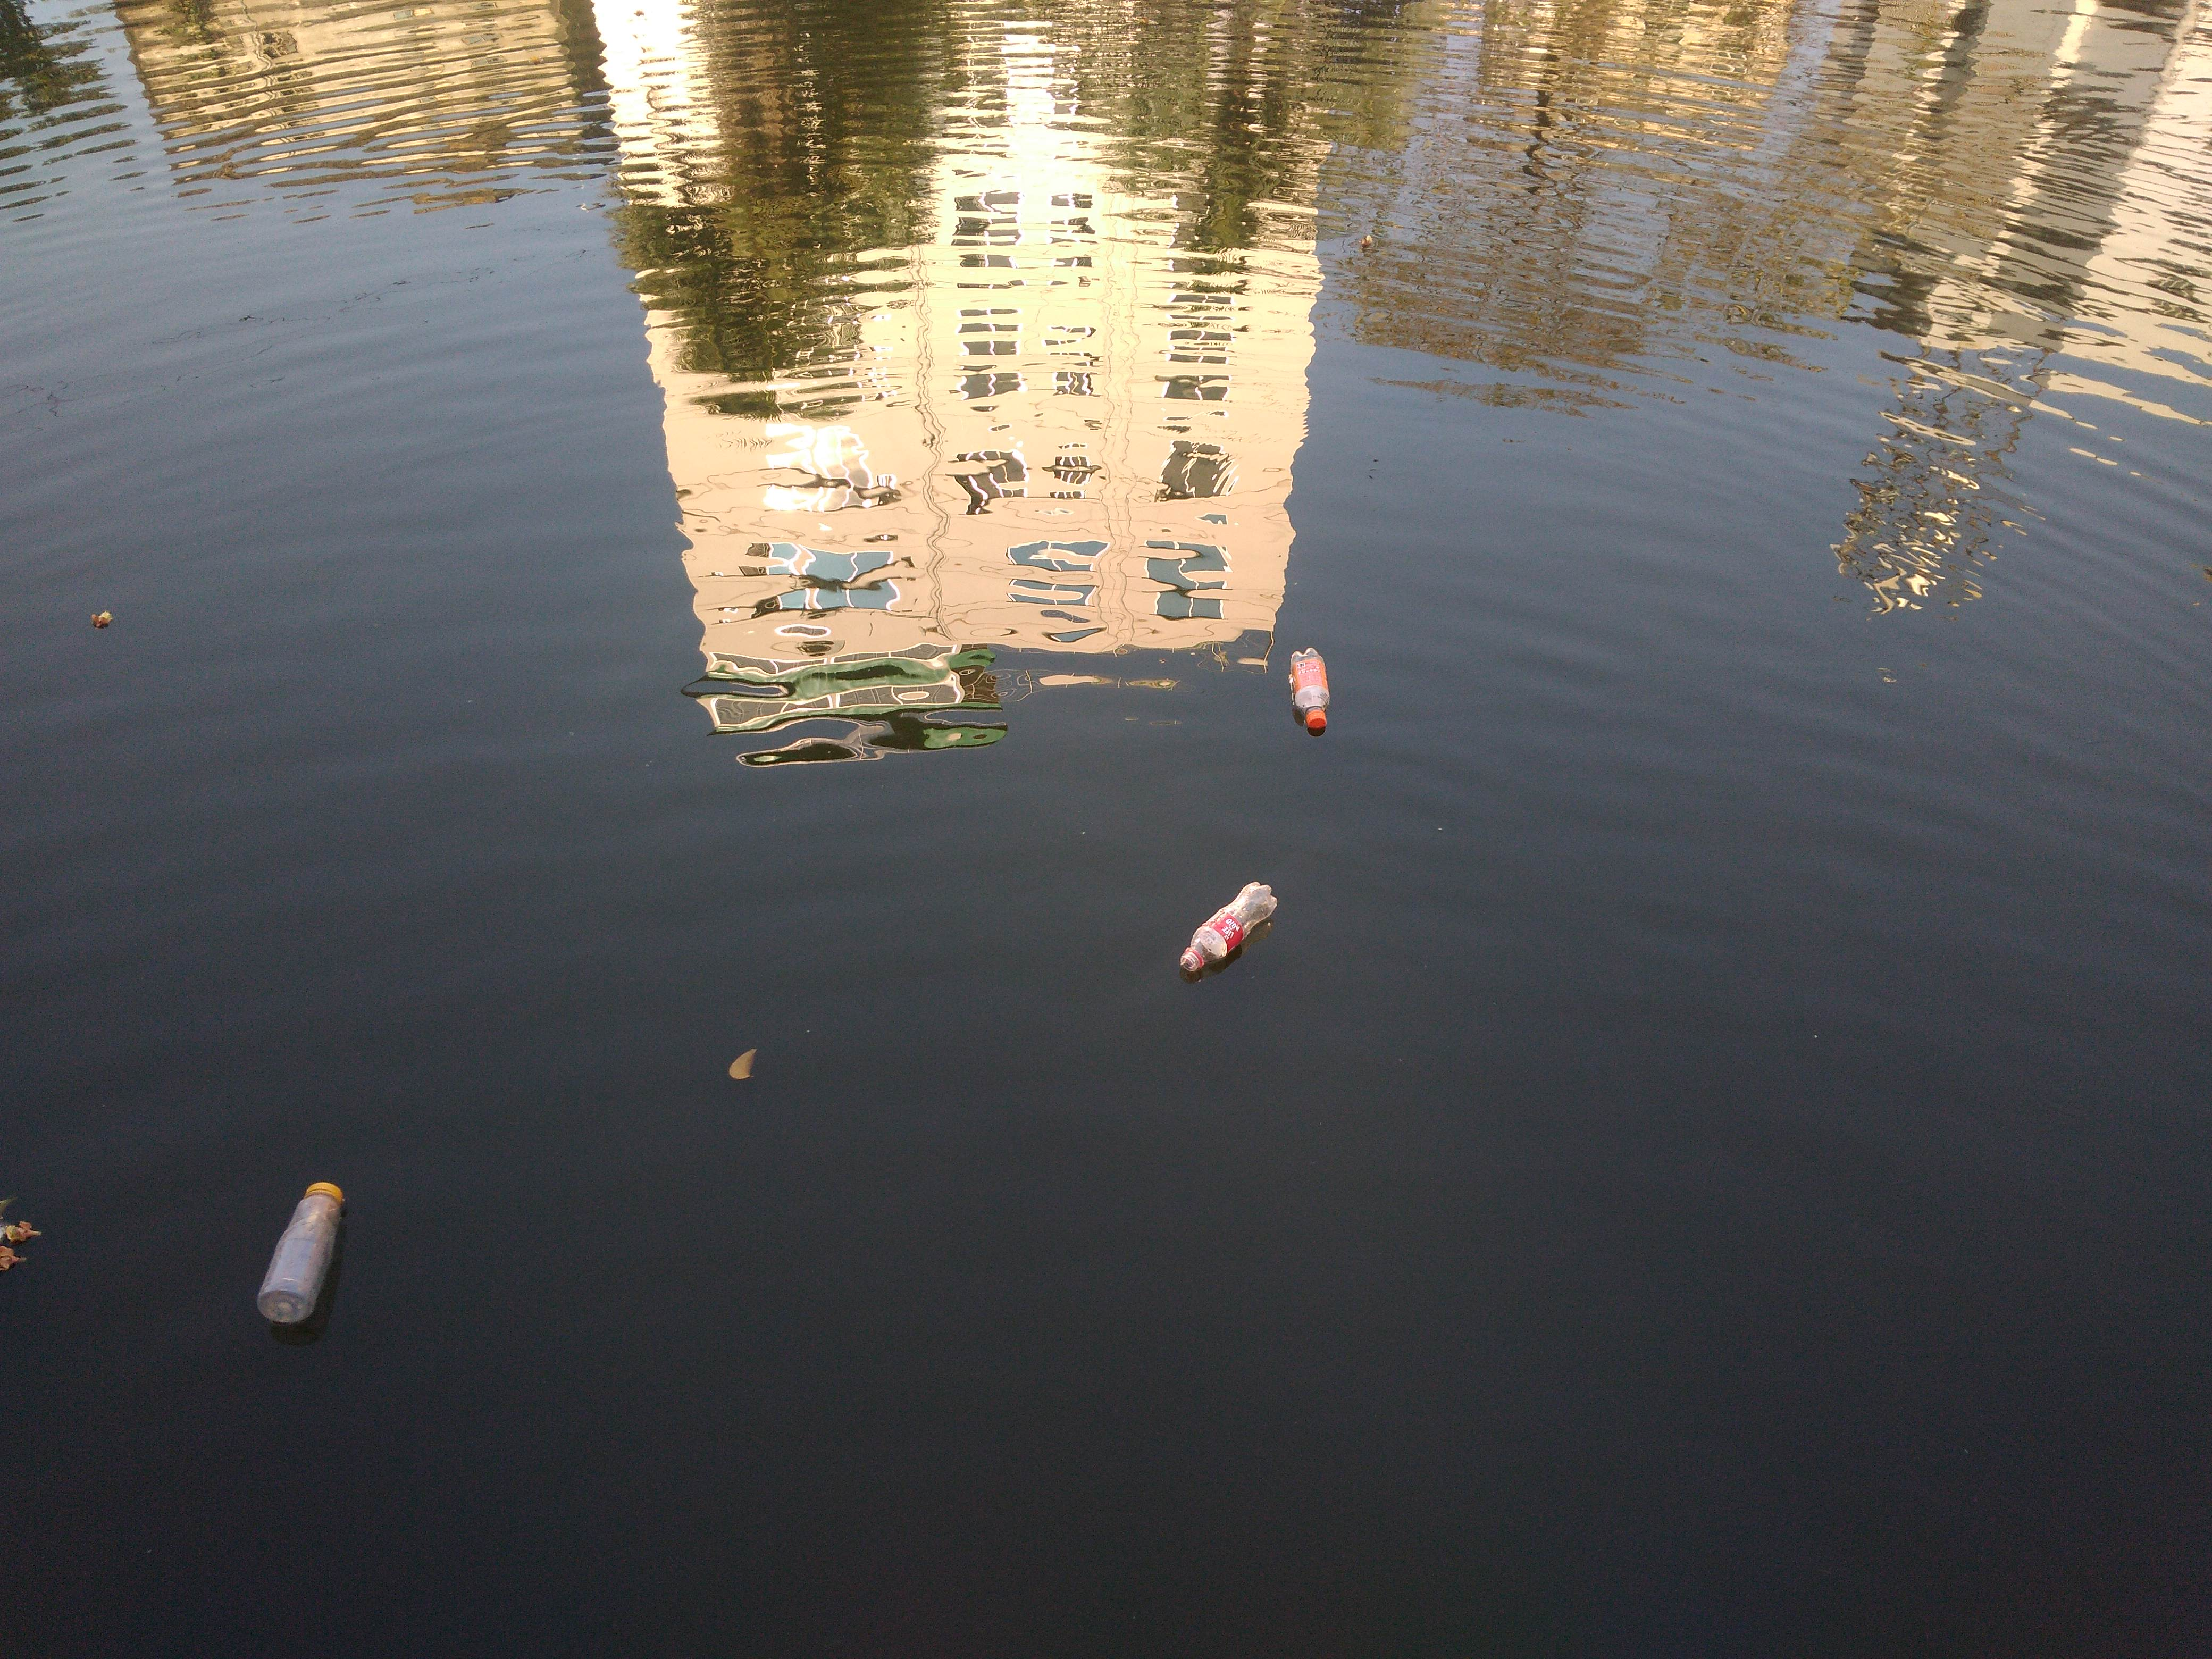Plastic Bottle: (258, 1183, 341, 1323), (1181, 882, 1277, 971), (1291, 647, 1331, 728)
